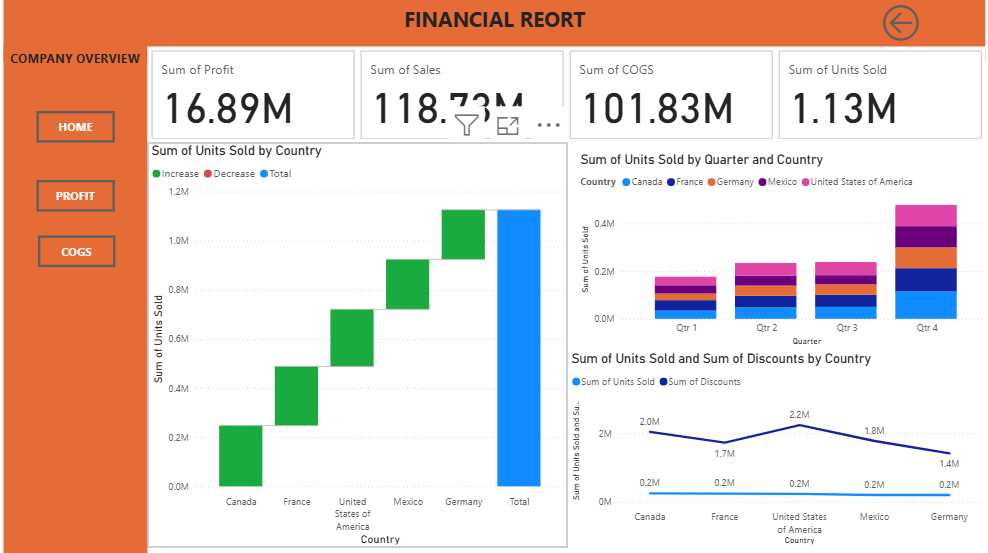

The page's visual inventory and layout, read from the dashboard file:
{"tool":"powerbi","page":{"name":"UNIT SOLD","canvas":[1280,720],"ordinal":2},"visuals":[{"type":"textbox","box":[9.7,0,1259.8,79.3],"z":0},{"type":"textbox","box":[9.7,58.3,184.6,662.3],"z":1000},{"type":"lineChart","fields":{"Y":["Sum(financials.Units Sold)","Sum(financials.Discounts)"],"Category":["financials.Country"]},"box":[733.2,449.6,538.7,253.2],"z":2000},{"type":"cardVisual","fields":{"Data":["Sum(financials.Profit)","Sum(financials. Sales)","Sum(financials.COGS)","Sum(financials.Units Sold)"]},"box":[194.4,58.7,1075.4,123.5],"z":3000},{"type":"columnChart","fields":{"Category":["financials.Date.Variation.Date Hierarchy.Quarter"],"Series":["financials.Country"],"Y":["Sum(financials.Units Sold)"]},"box":[743.3,194.4,536.7,253.2],"z":4000},{"type":"waterfallChart","fields":{"Y":["Sum(financials.Units Sold)"],"Category":["financials.Country"]},"box":[194.4,182.3,538.7,520.5],"z":5000},{"type":"actionButton","box":[54.7,301.8,99.2,40.5],"z":6000},{"type":"actionButton","box":[51.8,231.5,100.4,40.5],"z":7000},{"type":"actionButton","box":[51.8,142.5,100.4,40.5],"z":8000},{"type":"actionButton","box":[1130.1,0,149.9,58.7],"z":9000}]}

Visuals, with their boxes on the page's 1280x720 design canvas (x1, y1, x2, y2). These are canvas units, not pixel positions in the 988x553 screenshot, which may show the page scaled, cropped or inside an application window:
textbox: select_region(10, 0, 1270, 79)
textbox: select_region(10, 58, 194, 721)
lineChart - Sum(financials.Units Sold) x Sum(financials.Discounts): select_region(733, 450, 1272, 703)
cardVisual - Sum(financials.Profit) x Sum(financials. Sales): select_region(194, 59, 1270, 182)
columnChart - financials.Date.Variation.Date Hierarchy.Quarter x financials.Country: select_region(743, 194, 1280, 448)
waterfallChart - Sum(financials.Units Sold) x financials.Country: select_region(194, 182, 733, 703)
actionButton: select_region(55, 302, 154, 342)
actionButton: select_region(52, 232, 152, 272)
actionButton: select_region(52, 142, 152, 183)
actionButton: select_region(1130, 0, 1280, 59)
